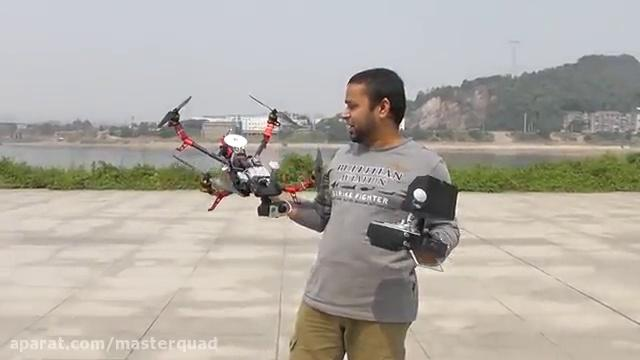drone: (152, 91, 324, 221)
